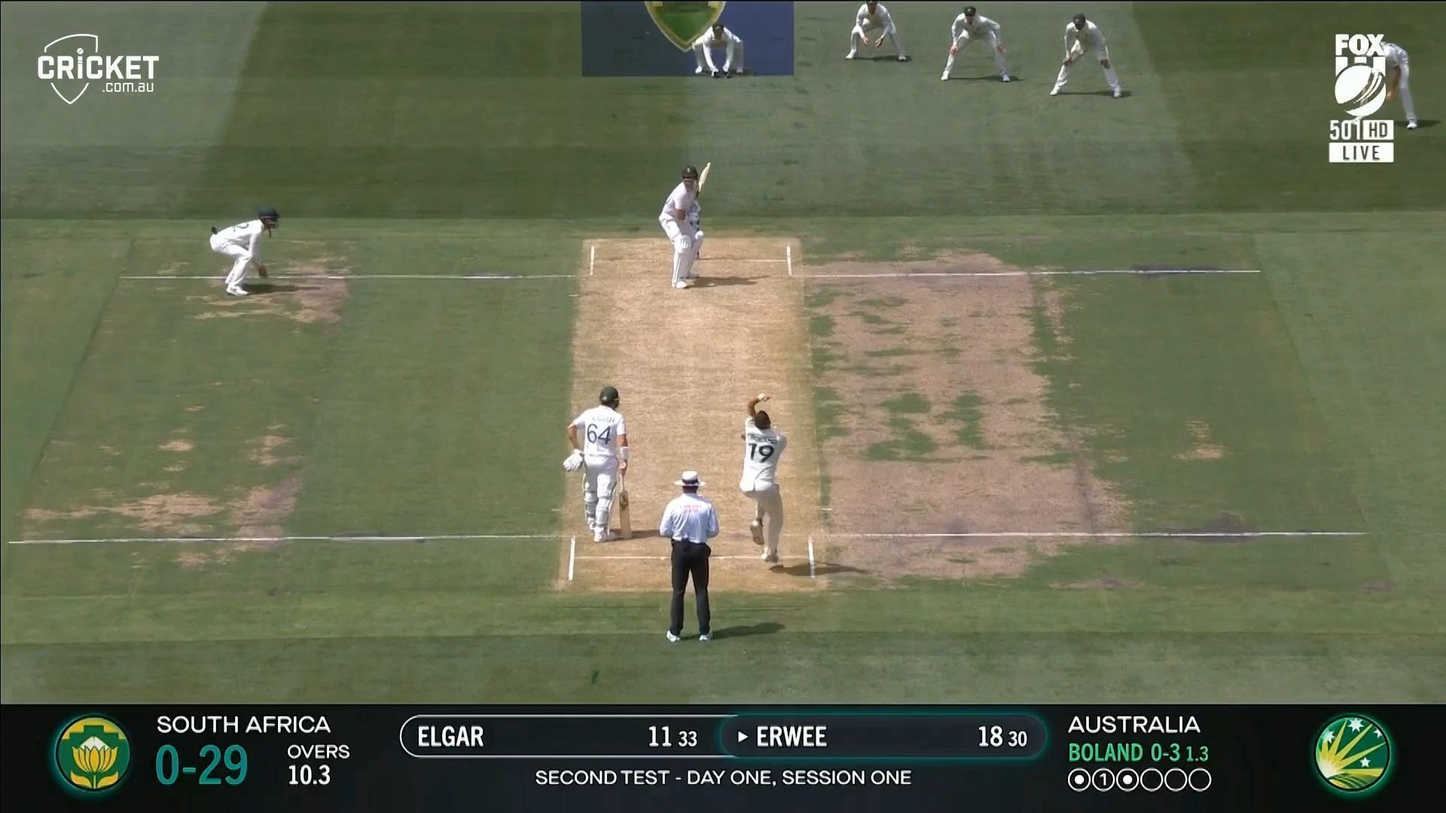BM 1: (659, 159, 714, 290)
BO: (739, 392, 787, 565)
